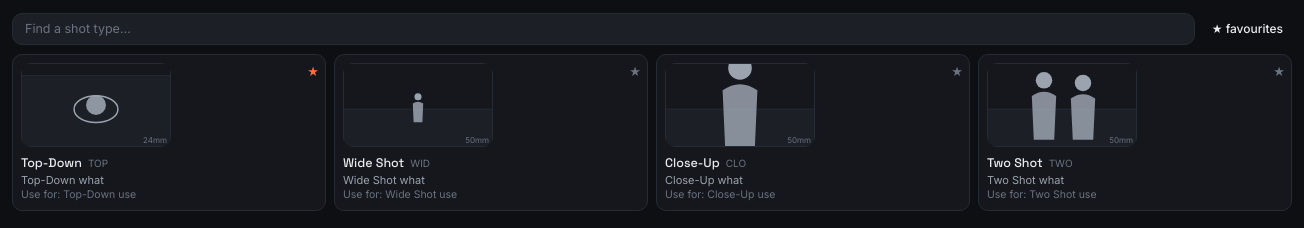
Test: <ShotTypeLibrary> › filters by search and by favourites
Type "two" into the field named "Search shot types". click: (603, 29)
box: [12,13,1195,45]
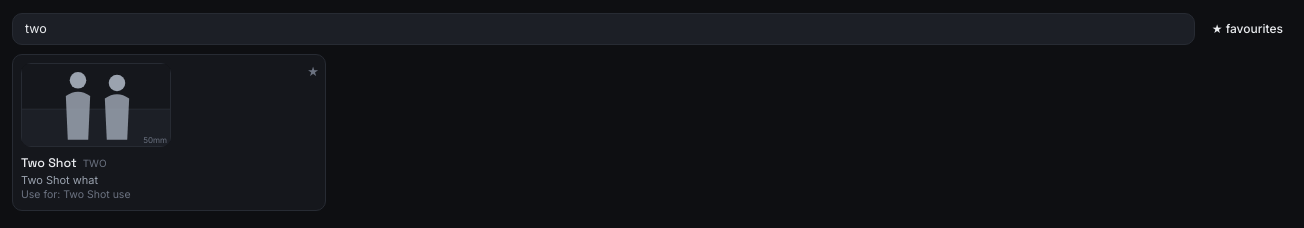
Expected: the text "Two Shot" is shown, [21,152,77,173]
Result: the button "Wide Shot" is gone
Clear the field named "Search shot types". click: (603, 29)
box: [12,13,1195,45]
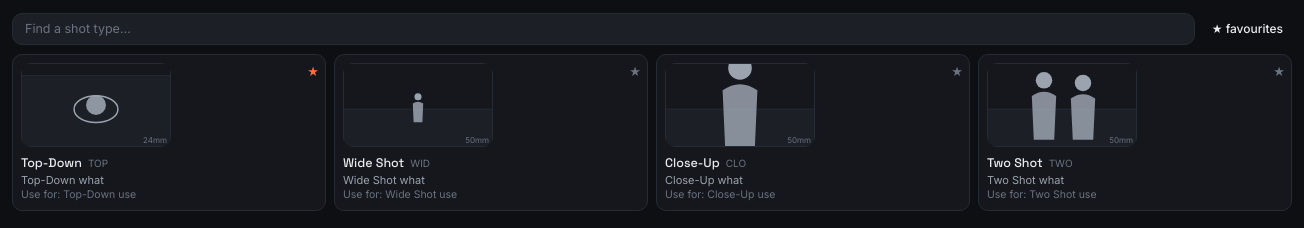
Click the button "★ favourites". click: click(1247, 29)
box: [1203,12,1292,46]
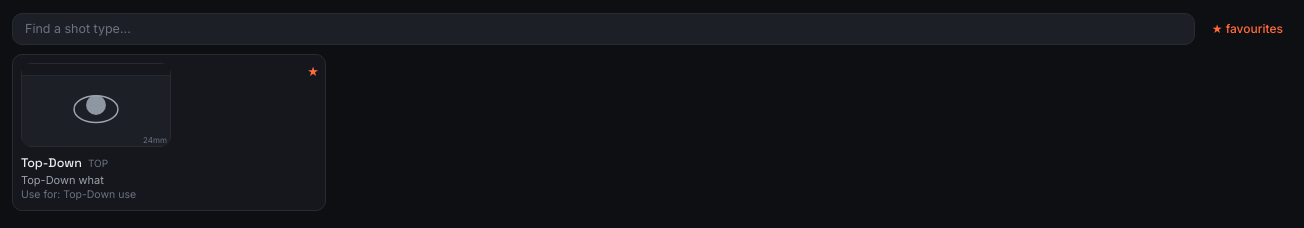
Result: the text "Top-Down" is shown at [21,152,82,173]
Result: the button "Close-Up" is gone
